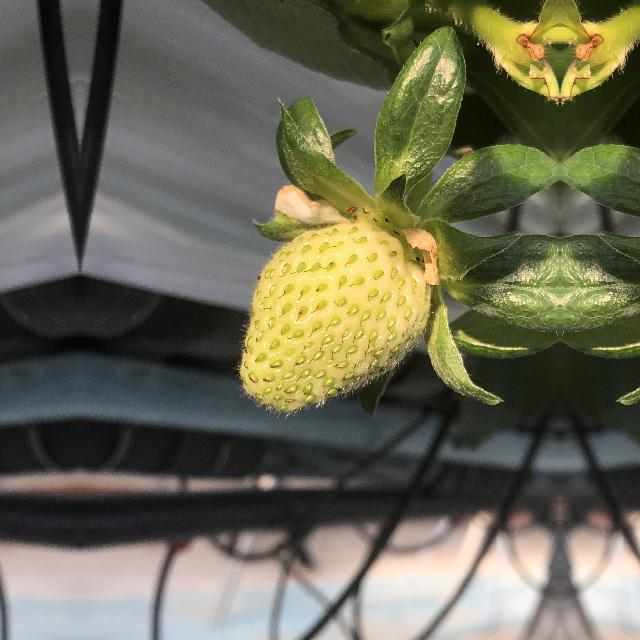Health_25: (239, 216, 436, 420)
